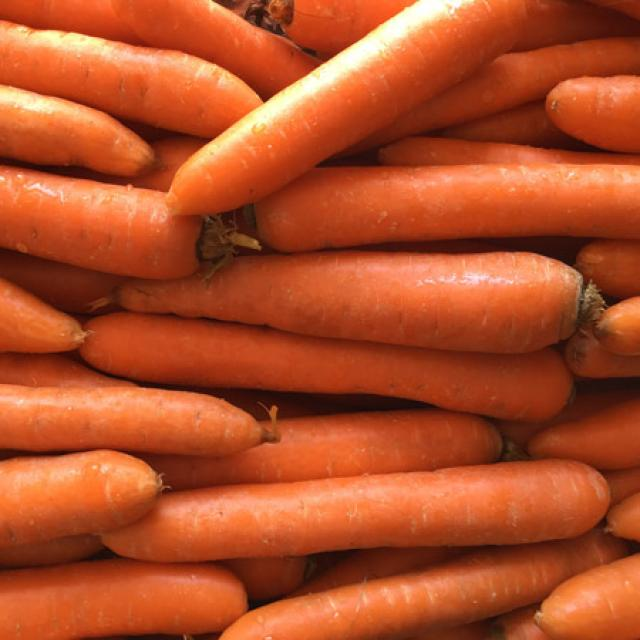Carrot: (102, 453, 612, 560)
